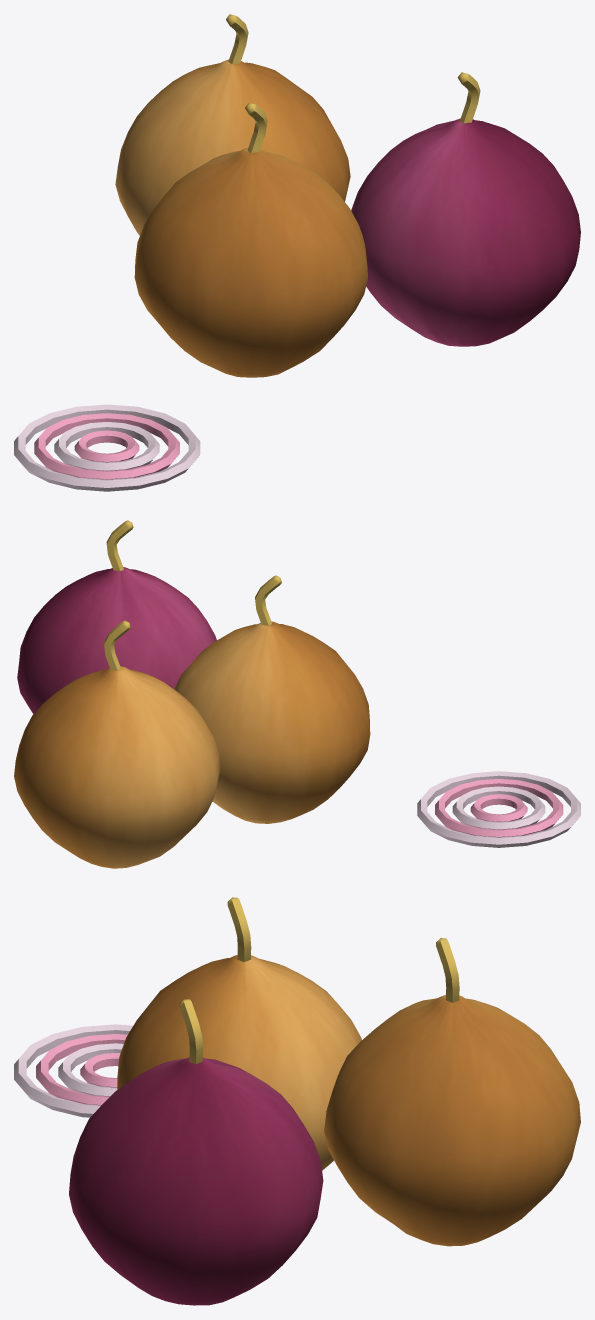
Rendered from veg_onions_assorted.glb.
3 renders of one model, top to bottom at view 1: azimuth 30°, elevation 25°; view 2: azimuth 150°, elevation 25°; view 3: azimuth 270°, elevation 25°, orthographic. The views are drawn at different scales.
Visible parts, largest first — view 1: veg_onions_assorted; view 2: veg_onions_assorted; view 3: veg_onions_assorted.
Boxes of the visible parts, <box> form: veg_onions_assorted: <box>14,14,580,491</box>; veg_onions_assorted: <box>14,520,580,868</box>; veg_onions_assorted: <box>14,897,580,1305</box>.
Bounding box in the file's own units: 0.2273 × 0.1 × 0.1769.
5 materials, 2 textured.
